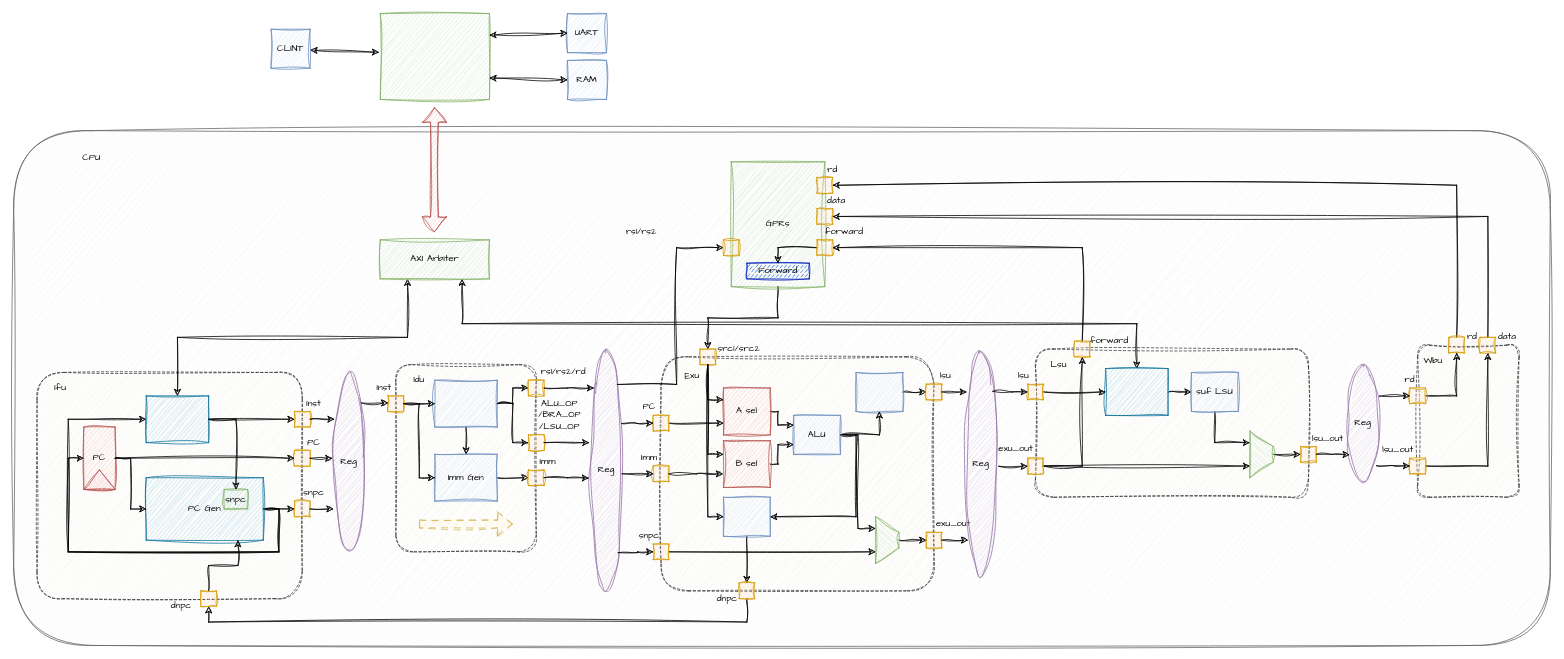
The diagram is 1564 pixels wide and 659 high, and some of its shapes have lost their labels. Each missing label, with the centre of its shape:
"BU" belongs at (746,516).
"D$" belongs at (1136,391).
"Decoder" belongs at (465,403).
"I$" belongs at (177,419).
"pre LSU" belongs at (879,391).
"xBar" belongs at (434,56).
